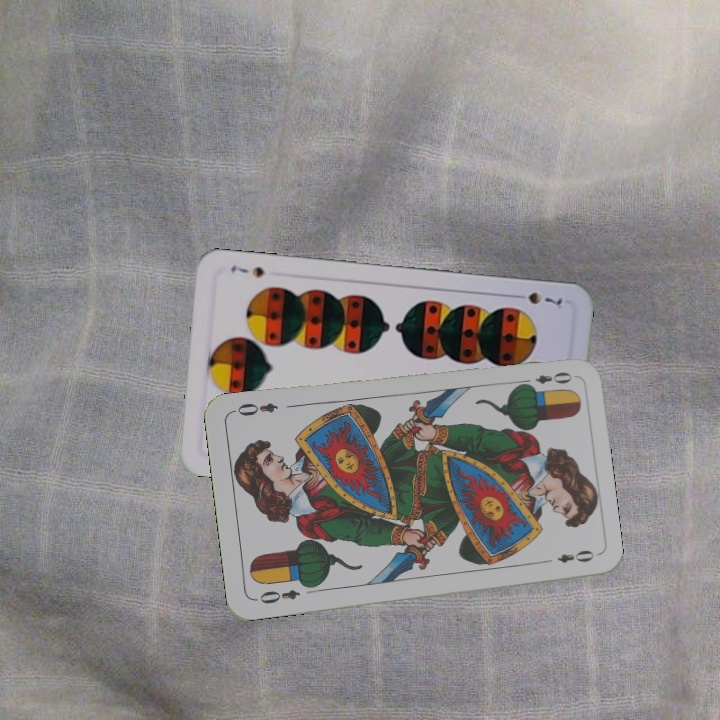EO: (517, 368, 575, 391), (255, 585, 303, 607)
S7: (509, 288, 565, 308)
